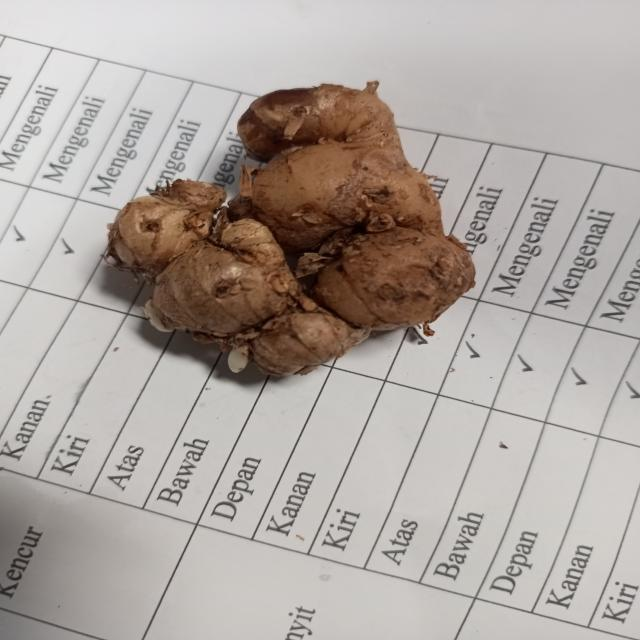ginger: (127, 84, 464, 358)
